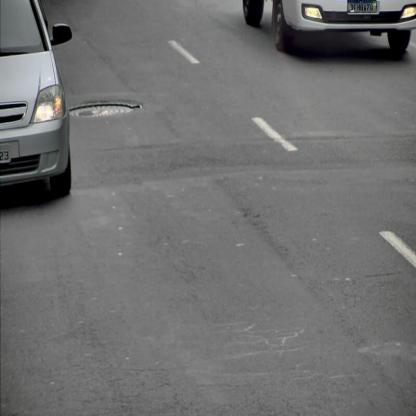PlacaM: (347, 0, 376, 12)
